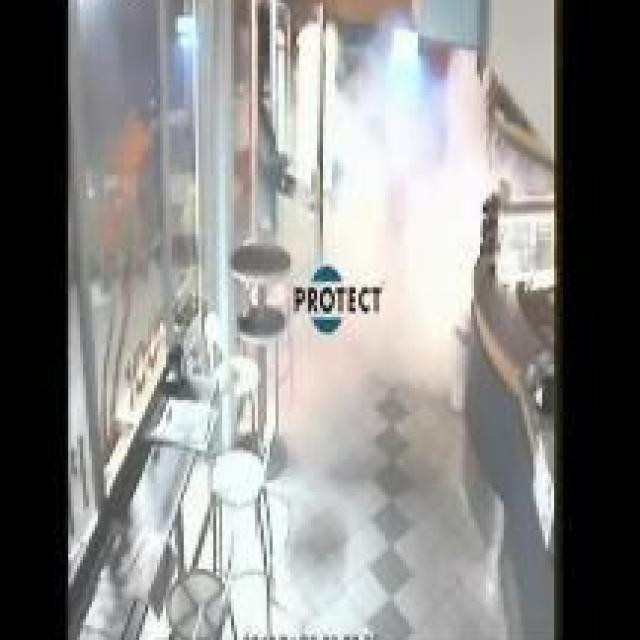fire: (295, 32, 464, 406)
